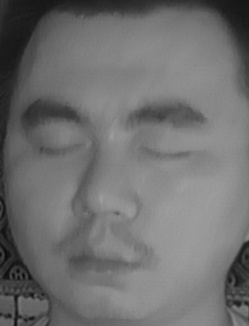blink: (32, 130, 85, 166), (139, 134, 189, 170)
mouth: (58, 234, 144, 290)
